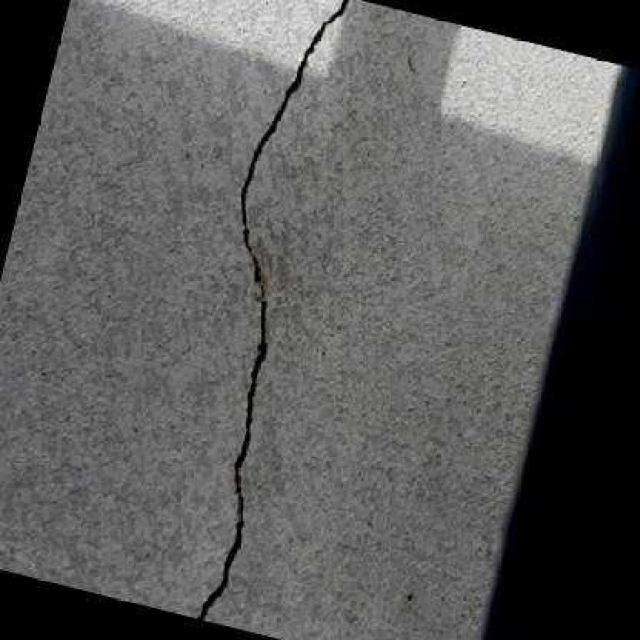D00: (195, 0, 351, 622)
